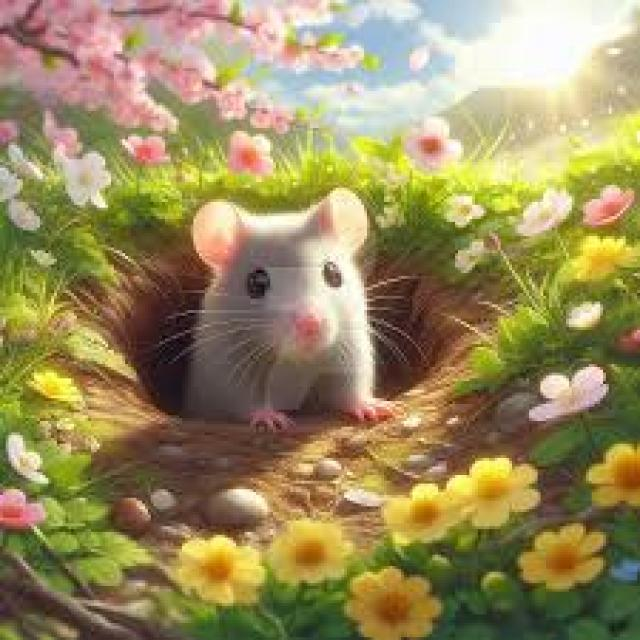rat: (60, 185, 503, 466)
